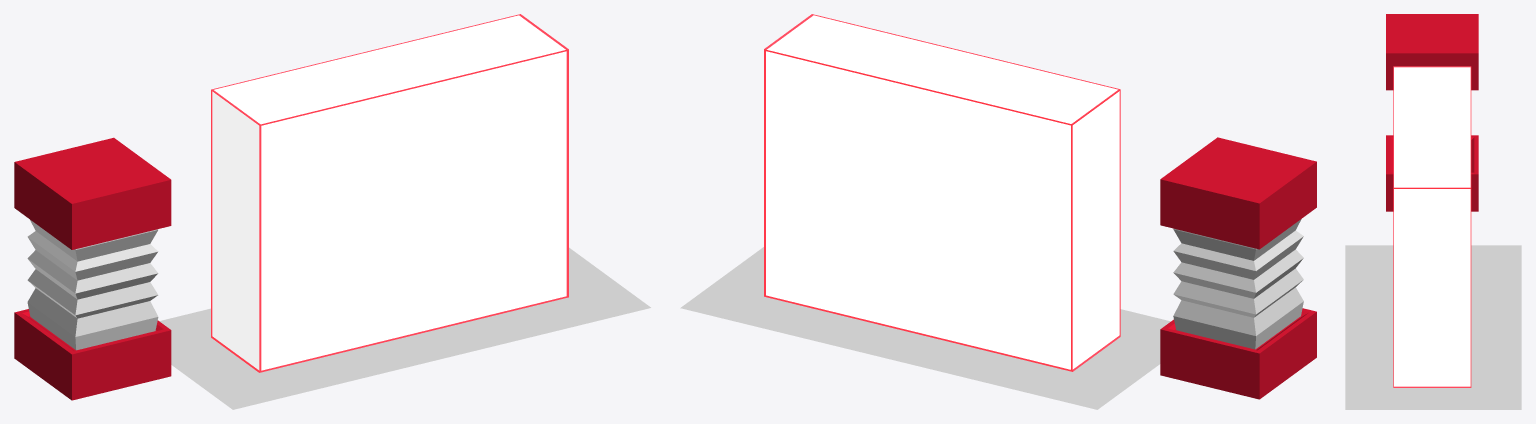
The picture shows the model from 3 angles, left to right: view 1: azimuth 30°, elevation 25°; view 2: azimuth 150°, elevation 25°; view 3: azimuth 270°, elevation 25°; orthographic projection. The views are drawn at different scales.
Visible parts, largest first — view 1: BookShelfwire_mod, Plane, Plastic, Bulb Cover, Cube.002, BookShelf_mod; view 2: BookShelfwire_mod, Plane, Plastic, Bulb Cover, Cube.002, BookShelf_mod; view 3: BookShelfwire_mod, Plane, Plastic, BookShelf_mod, Cube.002.
Boxes of the visible parts, <box> form: BookShelfwire_mod: <box>212,15,566,370</box>; Plane: <box>159,247,650,409</box>; Plastic: <box>14,137,171,249</box>; Bulb Cover: <box>27,220,158,350</box>; Cube.002: <box>14,309,171,400</box>; BookShelf_mod: <box>211,14,568,372</box>; BookShelfwire_mod: <box>766,15,1119,369</box>; Plane: <box>680,247,1170,409</box>; Plastic: <box>1160,137,1316,249</box>; Bulb Cover: <box>1173,219,1303,349</box>; Cube.002: <box>1160,308,1316,399</box>; BookShelf_mod: <box>764,14,1120,371</box>; BookShelfwire_mod: <box>1394,67,1470,386</box>; Plane: <box>1345,245,1521,409</box>; Plastic: <box>1386,14,1478,90</box>; BookShelf_mod: <box>1393,66,1471,387</box>; Cube.002: <box>1386,135,1478,211</box>.
Bounding box in the file's own units: 13.35 × 5.74 × 4.57.
